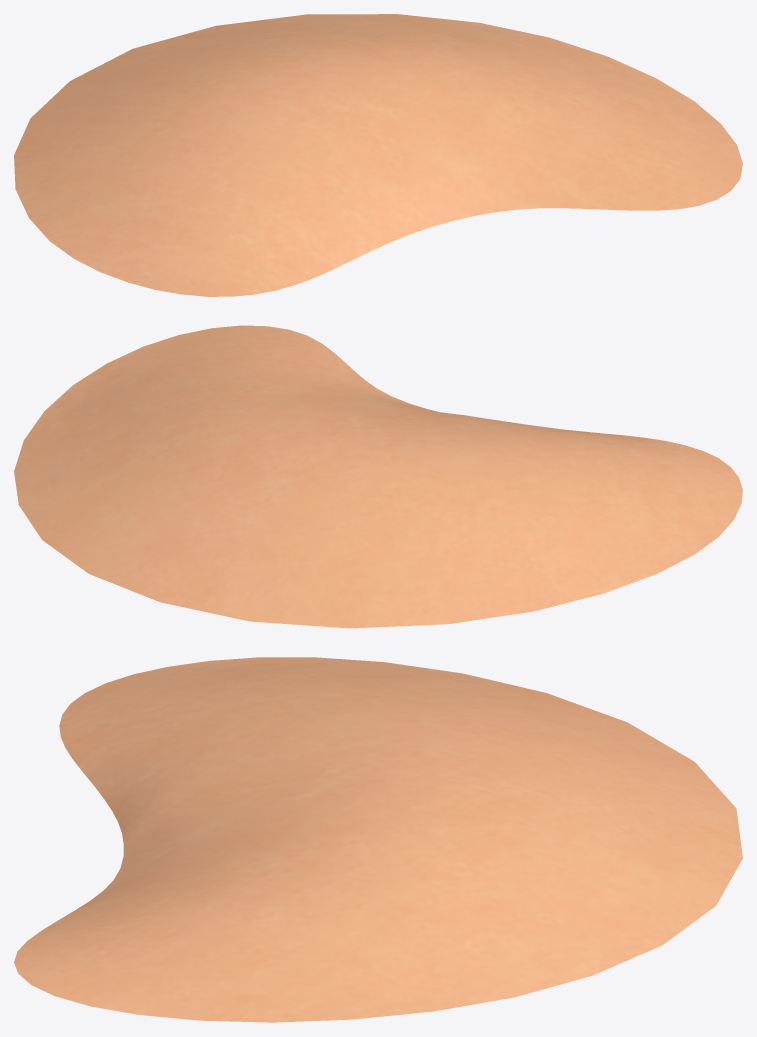
File: Savanna_Ground_03.fbx
3 views of the same model, one above another, from view 1: azimuth 30°, elevation 25°; view 2: azimuth 150°, elevation 25°; view 3: azimuth 270°, elevation 25° (orthographic). The views are drawn at different scales.
Parts seen in each view (by area): view 1: Savanna_Ground_03; view 2: Savanna_Ground_03; view 3: Savanna_Ground_03.
Part boxes in pixels (x1,y1,x2,y2): Savanna_Ground_03: (14, 14, 742, 296); Savanna_Ground_03: (14, 325, 742, 628); Savanna_Ground_03: (14, 657, 742, 1022).
Bounding box in the file's own units: 1656 × 1397 × 147.
